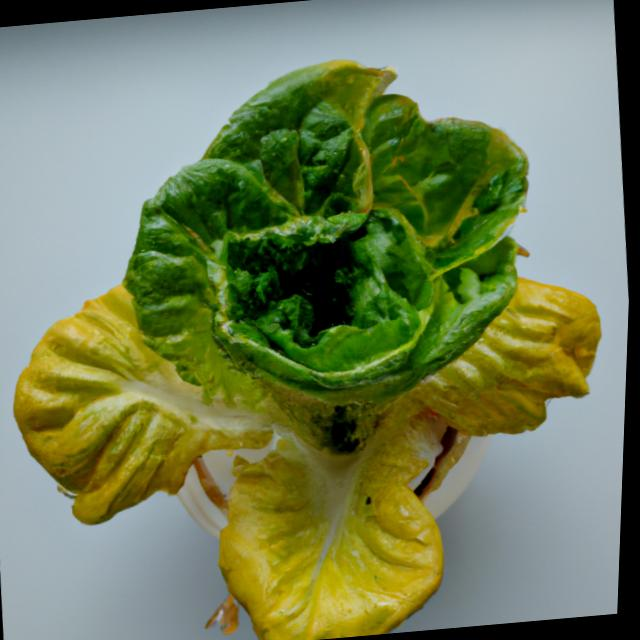-N: (0, 30, 639, 640)
